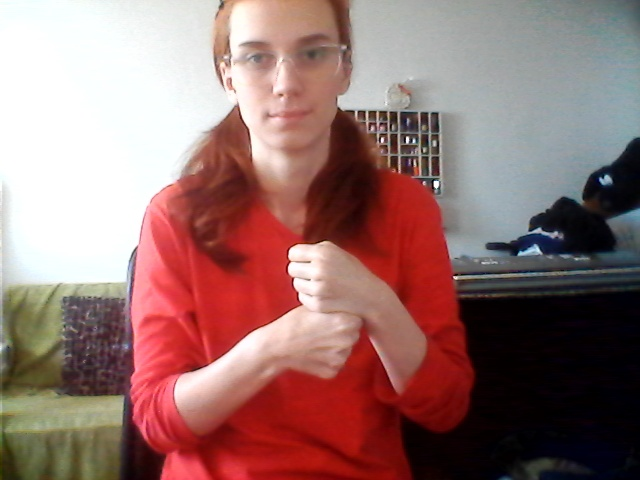g: (269, 237, 374, 393)
